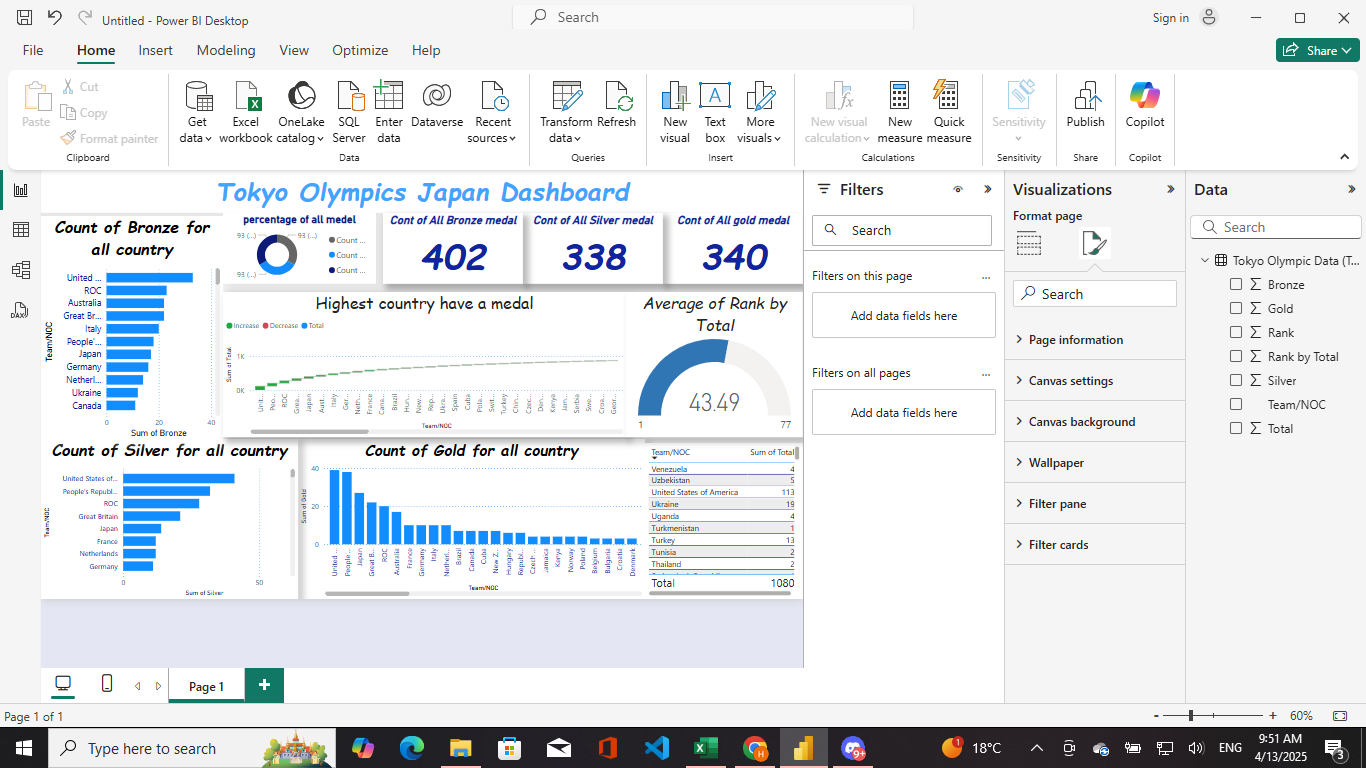

What the dashboard file says about the page in this screenshot:
{"tool":"powerbi","page":{"name":"Page 1","canvas":[1280,720],"ordinal":0},"visuals":[{"type":"clusteredColumnChart","title":"Count of Gold for all country","fields":{"Category":["Tokyo Olympic Data (Tokyo Olympic).Team/NOC"],"Y":["Sum(Tokyo Olympic Data (Tokyo Olympic).Gold)"]},"box":[431.7,451.9,582.9,268.8],"z":0},{"type":"clusteredBarChart","title":"Count of Silver for all country","fields":{"Category":["Tokyo Olympic Data (Tokyo Olympic).Team/NOC"],"Y":["Sum(Tokyo Olympic Data (Tokyo Olympic).Silver)"]},"box":[0,451.9,431.7,268.8],"z":1000},{"type":"barChart","title":"Count of Bronze for all country","fields":{"Category":["Tokyo Olympic Data (Tokyo Olympic).Team/NOC"],"Y":["Sum(Tokyo Olympic Data (Tokyo Olympic).Bronze)"]},"box":[0,77.3,305.7,378],"z":2000},{"type":"card","title":"Cont of All gold medal","fields":{"Values":["Sum(Tokyo Olympic Data (Tokyo Olympic).Gold)"]},"box":[1045.3,76.6,234.2,118.6],"z":3000},{"type":"textbox","box":[0,0,1280,72.2],"z":4000},{"type":"card","title":"Cont of All Silver medal","fields":{"Values":["Sum(Tokyo Olympic Data (Tokyo Olympic).Silver)"]},"box":[809.6,76.6,235.7,118.6],"z":5000},{"type":"card","title":"Cont of All Bronze medal","fields":{"Values":["Sum(Tokyo Olympic Data (Tokyo Olympic).Bronze)"]},"box":[574,76.6,235.7,118.6],"z":6000},{"type":"waterfallChart","title":"Highest country have a medal","fields":{"Category":["Tokyo Olympic Data (Tokyo Olympic).Team/NOC"],"Y":["Sum(Tokyo Olympic Data (Tokyo Olympic).Total)"]},"box":[305.1,205.3,678.1,242.9],"z":7000},{"type":"tableEx","title":"Count of Gold for all country","fields":{"Values":["Tokyo Olympic Data (Tokyo Olympic).Team/NOC","Sum(Tokyo Olympic Data (Tokyo Olympic).Total)"]},"box":[1014.6,458.6,265.4,262],"z":8000},{"type":"donutChart","title":"percentage of all medel ","fields":{"Y":["CountNonNull(Tokyo Olympic Data (Tokyo Olympic).Gold)","CountNonNull(Tokyo Olympic Data (Tokyo Olympic).Bronze)","CountNonNull(Tokyo Olympic Data (Tokyo Olympic).Silver)"]},"box":[305.1,76.6,257.3,118.6],"z":9000},{"type":"gauge","title":"Average of Rank by Total","fields":{"Y":["Avg(Tokyo Olympic Data (Tokyo Olympic).Rank by Total)"],"MinValue":["Min(Tokyo Olympic Data (Tokyo Olympic).Rank by Total)1"],"MaxValue":["Max(Tokyo Olympic Data (Tokyo Olympic).Rank by Total)2"]},"box":[982.7,204.9,297.3,243.6],"z":10000}]}

Visuals, with their boxes on the page's 1280x720 design canvas (x1, y1, x2, y2). These are canvas units, not pixel positions in the 1366x768 screenshot, which may show the page scaled, cropped or inside an application window:
"Count of Gold for all country" clusteredColumnChart: Rect(432, 452, 1015, 721)
"Count of Silver for all country" clusteredBarChart: Rect(0, 452, 432, 721)
"Count of Bronze for all country" barChart: Rect(0, 77, 306, 455)
"Cont of All gold medal" card: Rect(1045, 77, 1280, 195)
textbox: Rect(0, 0, 1280, 72)
"Cont of All Silver medal" card: Rect(810, 77, 1045, 195)
"Cont of All Bronze medal" card: Rect(574, 77, 810, 195)
"Highest country have a medal" waterfallChart: Rect(305, 205, 983, 448)
"Count of Gold for all country" tableEx: Rect(1015, 459, 1280, 721)
"percentage of all medel " donutChart: Rect(305, 77, 562, 195)
"Average of Rank by Total" gauge: Rect(983, 205, 1280, 448)
